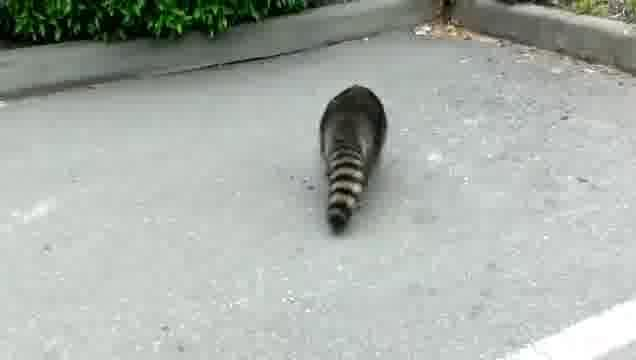raccoon: (318, 84, 391, 239)
